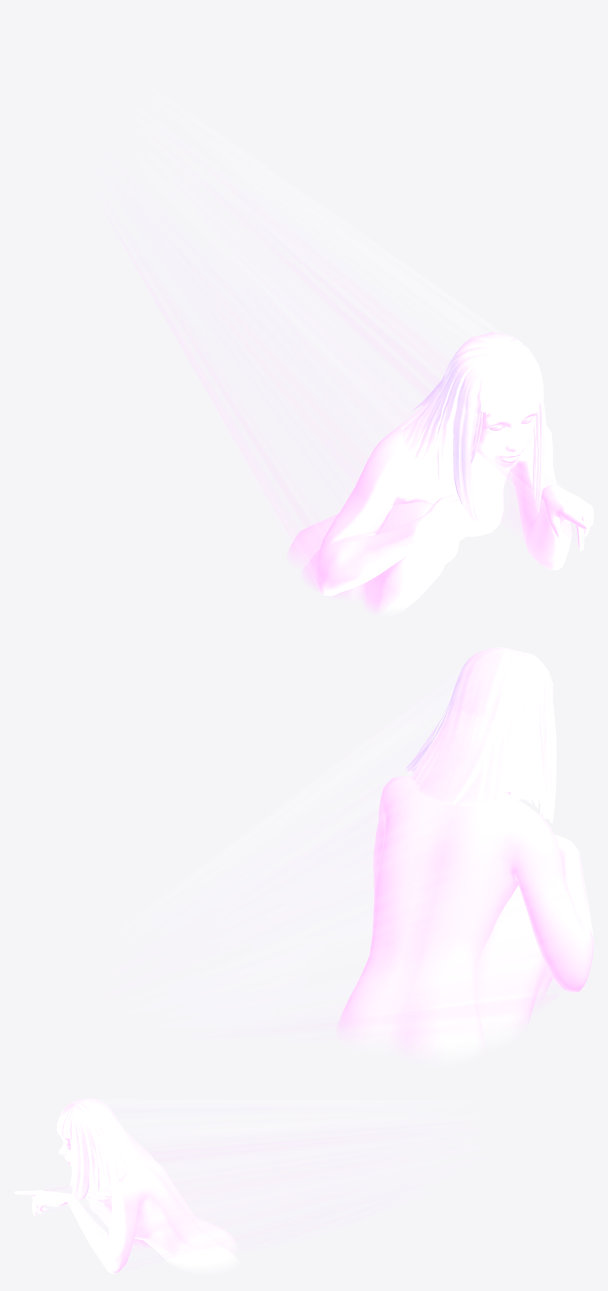
3 views of the same model, one above another, from view 1: azimuth 30°, elevation 25°; view 2: azimuth 150°, elevation 25°; view 3: azimuth 270°, elevation 25° (orthographic). The views are drawn at different scales.
Visible parts, largest first — view 1: Hologram_L, Joi1_L, Hair_L, Joi2_L; view 2: Joi1_L, Hologram_L, Hair_L, Joi2_L; view 3: Hologram_L, Joi1_L, Hair_L, Joi2_L.
Part boxes in pixels (left/top/right/bottom): Hologram_L: left=120, top=116, right=575, bottom=579; Joi1_L: left=287, top=404, right=593, bottom=596; Hair_L: left=400, top=332, right=546, bottom=528; Joi2_L: left=301, top=501, right=459, bottom=615; Joi1_L: left=337, top=776, right=593, bottom=1064; Hologram_L: left=159, top=661, right=576, bottom=1026; Hair_L: left=405, top=647, right=556, bottom=823; Joi2_L: left=474, top=885, right=552, bottom=1047; Hologram_L: left=42, top=1099, right=433, bottom=1254; Joi1_L: left=14, top=1136, right=239, bottom=1273; Hair_L: left=56, top=1098, right=152, bottom=1199; Joi2_L: left=89, top=1183, right=148, bottom=1247.
Size of the model in its own units: 28.97 by 35.46 by 115.
Materials: 3 (3 with a texture image).
